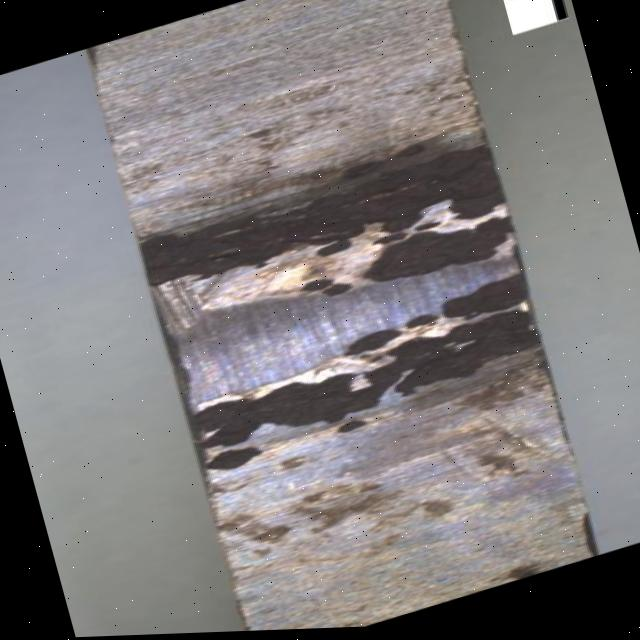Dry: (154, 204, 537, 457)
